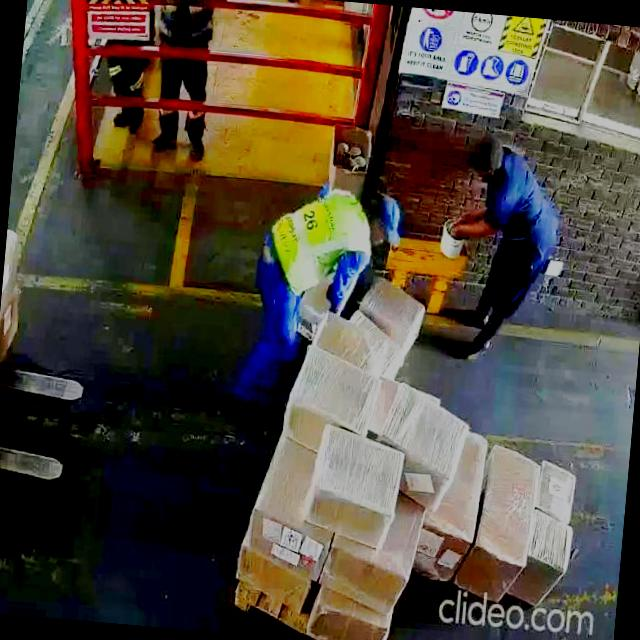Box: (306, 422, 411, 548), (282, 338, 379, 437), (468, 448, 532, 595), (382, 382, 467, 480), (243, 499, 329, 573), (322, 539, 406, 613), (232, 543, 312, 608), (520, 509, 570, 610), (533, 452, 583, 522), (310, 596, 387, 640)
